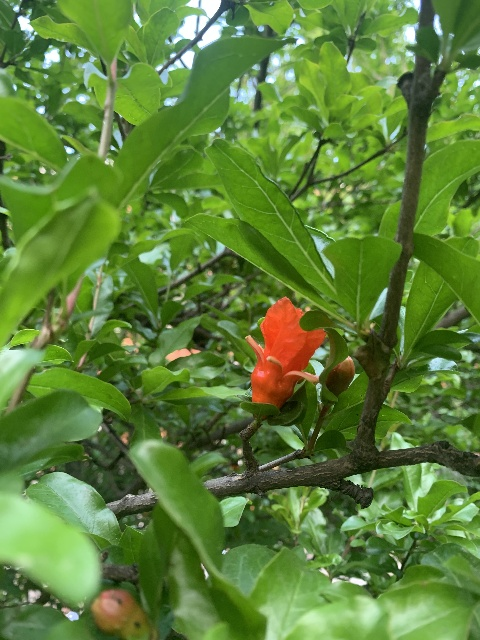bud: (90, 588, 155, 640), (325, 356, 355, 395)
flower: (245, 296, 326, 419)
